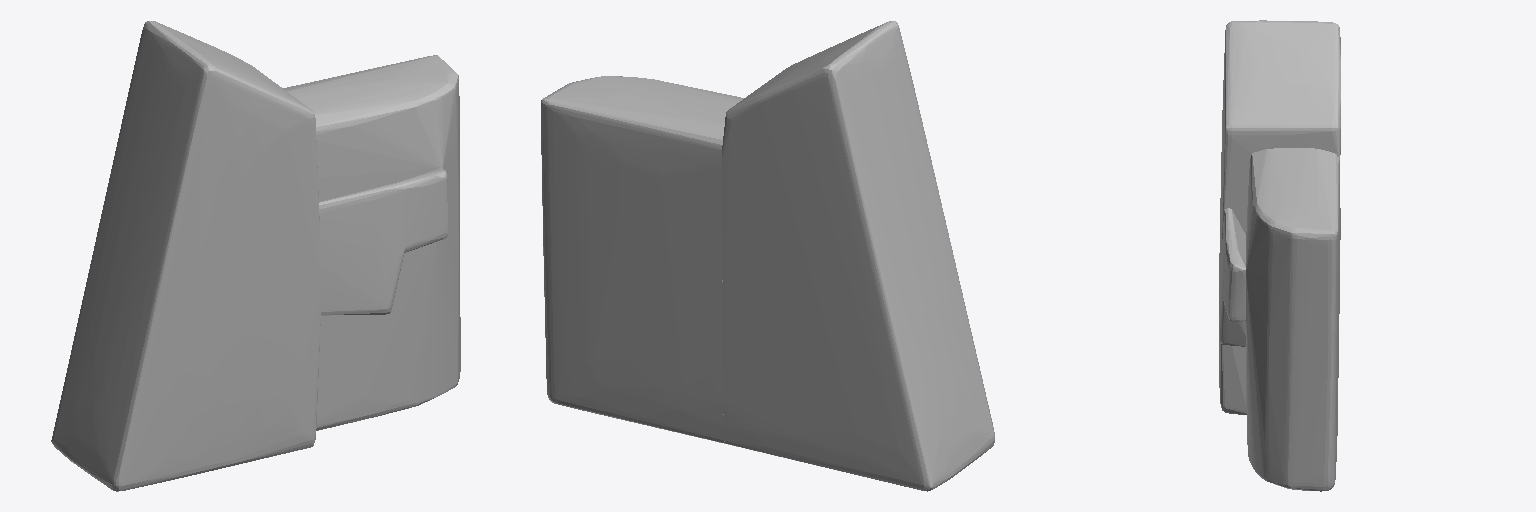
URDF robot description (root):
<robot name="root">
  <link name="link_coacd_convex_piece_0">
    <inertial>
      <origin xyz="0 0 0" rpy="0 0 0"/>
      <inertia ixx="3.91E-02" ixy="-2.34E-04" ixz="-1.07E-02" iyy="6.31E-02" iyz="-1.15E-03" izz="3.20E-02"/>
    </inertial>
    <visual>
      <origin xyz="0 0 0" rpy="0 0 0"/>
      <geometry>
        <mesh filename="coacd_convex_piece_0.obj" scale="1.0000E+00 1.0000E+00 1.0000E+00"/>
      </geometry>
      <material name="">
        <color rgba="7.50E-01 7.50E-01 7.50E-01 1"/>
      </material>
    </visual>
    <collision>
      <origin xyz="0 0 0" rpy="0 0 0"/>
      <geometry>
        <mesh filename="coacd_convex_piece_0.obj" scale="1.0000E+00 1.0000E+00 1.0000E+00"/>
      </geometry>
    </collision>
  </link>
  <link name="link_coacd_convex_piece_1">
    <inertial>
      <origin xyz="0 0 0" rpy="0 0 0"/>
      <inertia ixx="2.05E-02" ixy="-3.72E-03" ixz="1.13E-02" iyy="4.64E-02" iyz="1.03E-03" izz="2.99E-02"/>
    </inertial>
    <visual>
      <origin xyz="0 0 0" rpy="0 0 0"/>
      <geometry>
        <mesh filename="coacd_convex_piece_1.obj" scale="1.0000E+00 1.0000E+00 1.0000E+00"/>
      </geometry>
      <material name="">
        <color rgba="7.50E-01 7.50E-01 7.50E-01 1"/>
      </material>
    </visual>
    <collision>
      <origin xyz="0 0 0" rpy="0 0 0"/>
      <geometry>
        <mesh filename="coacd_convex_piece_1.obj" scale="1.0000E+00 1.0000E+00 1.0000E+00"/>
      </geometry>
    </collision>
  </link>
  <joint name="link_coacd_convex_piece_1_joint" type="fixed">
    <origin xyz="0 0 0" rpy="0 0 0"/>
    <parent link="link_coacd_convex_piece_0"/>
    <child link="link_coacd_convex_piece_1"/>
  </joint>
  <link name="link_coacd_convex_piece_2">
    <inertial>
      <origin xyz="0 0 0" rpy="0 0 0"/>
      <inertia ixx="2.63E-05" ixy="1.54E-04" ixz="-2.30E-06" iyy="3.95E-04" iyz="-2.40E-06" izz="4.83E-04"/>
    </inertial>
    <visual>
      <origin xyz="0 0 0" rpy="0 0 0"/>
      <geometry>
        <mesh filename="coacd_convex_piece_2.obj" scale="1.0000E+00 1.0000E+00 1.0000E+00"/>
      </geometry>
      <material name="">
        <color rgba="7.50E-01 7.50E-01 7.50E-01 1"/>
      </material>
    </visual>
    <collision>
      <origin xyz="0 0 0" rpy="0 0 0"/>
      <geometry>
        <mesh filename="coacd_convex_piece_2.obj" scale="1.0000E+00 1.0000E+00 1.0000E+00"/>
      </geometry>
    </collision>
  </link>
  <joint name="link_coacd_convex_piece_2_joint" type="fixed">
    <origin xyz="0 0 0" rpy="0 0 0"/>
    <parent link="link_coacd_convex_piece_1"/>
    <child link="link_coacd_convex_piece_2"/>
  </joint>
  <link name="link_coacd_convex_piece_3">
    <inertial>
      <origin xyz="0 0 0" rpy="0 0 0"/>
      <inertia ixx="2.45E-04" ixy="2.62E-04" ixz="1.59E-04" iyy="3.70E-04" iyz="-1.37E-04" izz="5.95E-04"/>
    </inertial>
    <visual>
      <origin xyz="0 0 0" rpy="0 0 0"/>
      <geometry>
        <mesh filename="coacd_convex_piece_3.obj" scale="1.0000E+00 1.0000E+00 1.0000E+00"/>
      </geometry>
      <material name="">
        <color rgba="7.50E-01 7.50E-01 7.50E-01 1"/>
      </material>
    </visual>
    <collision>
      <origin xyz="0 0 0" rpy="0 0 0"/>
      <geometry>
        <mesh filename="coacd_convex_piece_3.obj" scale="1.0000E+00 1.0000E+00 1.0000E+00"/>
      </geometry>
    </collision>
  </link>
  <joint name="link_coacd_convex_piece_3_joint" type="fixed">
    <origin xyz="0 0 0" rpy="0 0 0"/>
    <parent link="link_coacd_convex_piece_2"/>
    <child link="link_coacd_convex_piece_3"/>
  </joint>
</robot>

--- Facts derived from the render (not from the file) ---
3 views of the same robot in one strip: view 1: azimuth 30°, elevation 25°; view 2: azimuth 150°, elevation 25°; view 3: azimuth 270°, elevation 25° (orthographic).
Robot: root — 4 links, 3 joints (3 fixed); root link link_coacd_convex_piece_0; default pose: all joints at 0.
Links seen in each view (by area): view 1: link_coacd_convex_piece_0, link_coacd_convex_piece_1, link_coacd_convex_piece_3, link_coacd_convex_piece_2; view 2: link_coacd_convex_piece_0, link_coacd_convex_piece_1; view 3: link_coacd_convex_piece_1, link_coacd_convex_piece_0, link_coacd_convex_piece_3, link_coacd_convex_piece_2.
Link boxes in pixels (<box>): link_coacd_convex_piece_0: <box>51,21,320,491</box>; link_coacd_convex_piece_1: <box>283,55,460,430</box>; link_coacd_convex_piece_3: <box>319,182,404,315</box>; link_coacd_convex_piece_2: <box>399,168,447,252</box>; link_coacd_convex_piece_0: <box>722,21,994,491</box>; link_coacd_convex_piece_1: <box>541,76,743,443</box>; link_coacd_convex_piece_1: <box>1246,148,1340,491</box>; link_coacd_convex_piece_0: <box>1219,20,1340,414</box>; link_coacd_convex_piece_3: <box>1219,208,1245,346</box>; link_coacd_convex_piece_2: <box>1223,245,1245,321</box>.
Size in the robot's own frame: 1.38 by 0.4365 by 1.38 metres.
Meshes: 4 distinct files referenced, 4 mesh visuals loaded (4 OBJ).